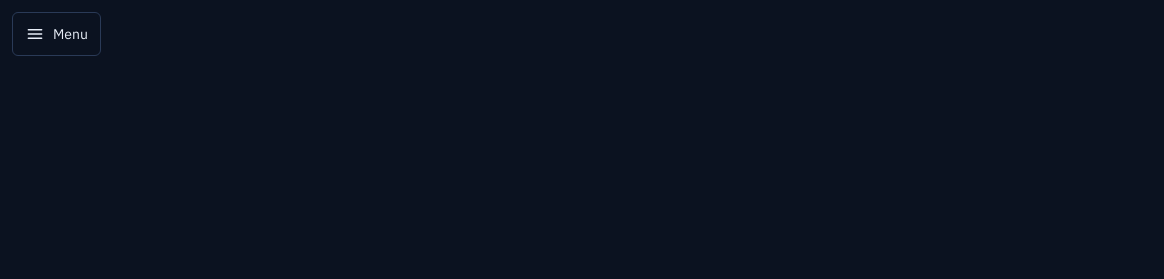
Scenario: HeaderMenu › asks to confirm, and Cancel (focused by default) resets nothing
Click the button "Menu": (56, 34) [12, 12, 101, 56]
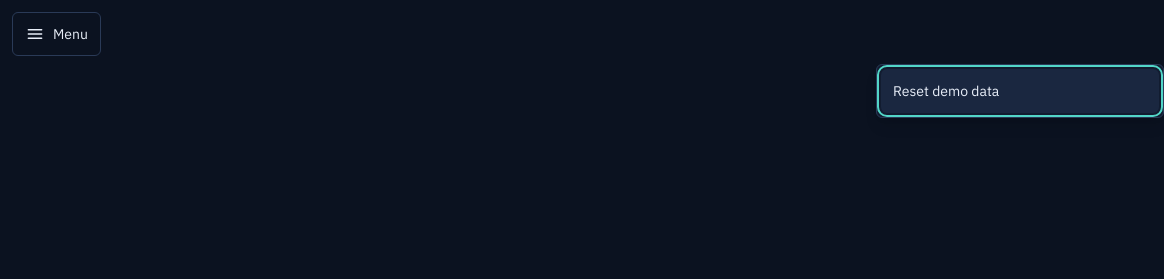
Click the menu item "Reset demo data": (946, 91) [881, 69, 1159, 113]
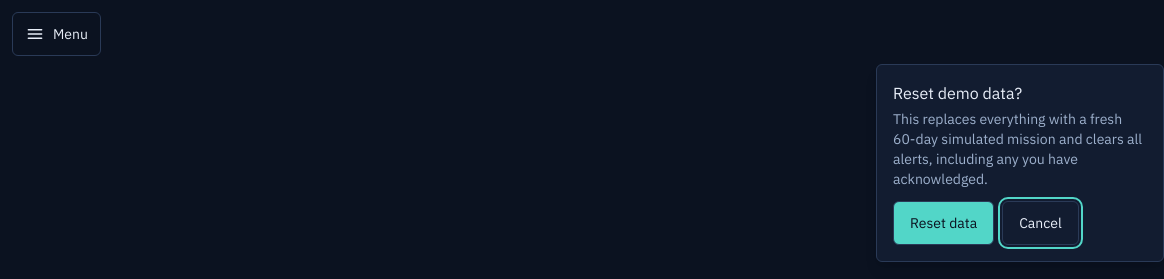
expect the text "Reset demo data?" is shown: met, box [893, 83, 1022, 103]
expect the text "60-day simulated mission" is shown: met, box [893, 109, 1147, 189]
Click the button "Cancel": (1040, 223) [1002, 201, 1079, 245]
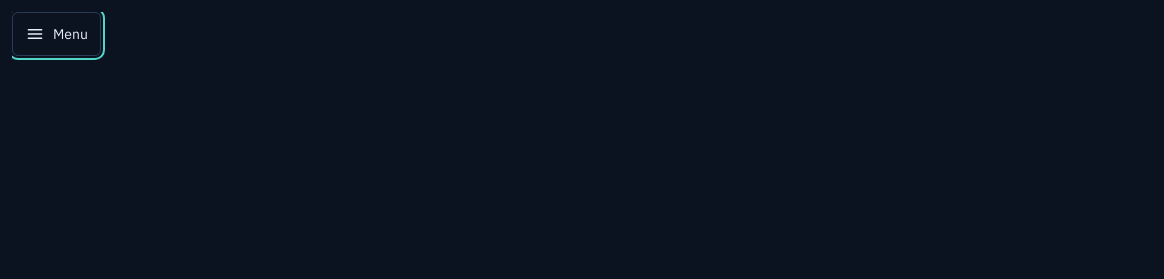
expect the text "Reset demo data?" is gone: met
